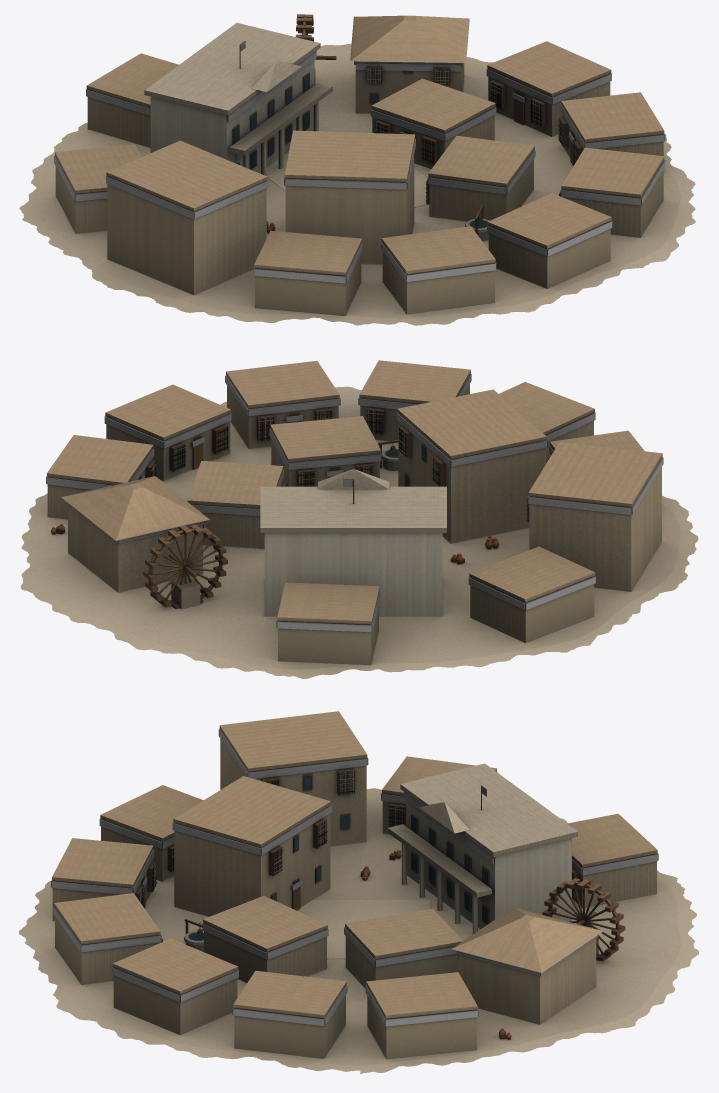
The model's file is gunpowder-town-medium-a-nile.glb.
The picture shows the model from 3 angles, top to bottom: view 1: azimuth 30°, elevation 25°; view 2: azimuth 150°, elevation 25°; view 3: azimuth 270°, elevation 25°; orthographic projection.
Visible parts, largest first — view 1: LOD0; view 2: LOD0; view 3: LOD0.
Part boxes in pixels (left/top/right/bottom): LOD0: left=19, top=14, right=695, bottom=325; LOD0: left=20, top=360, right=698, bottom=678; LOD0: left=19, top=711, right=698, bottom=1073.
Size of what is drawn, in the model's own units: 5.95 by 1.11 by 5.93.
Materials: 3 (3 with a texture image).
